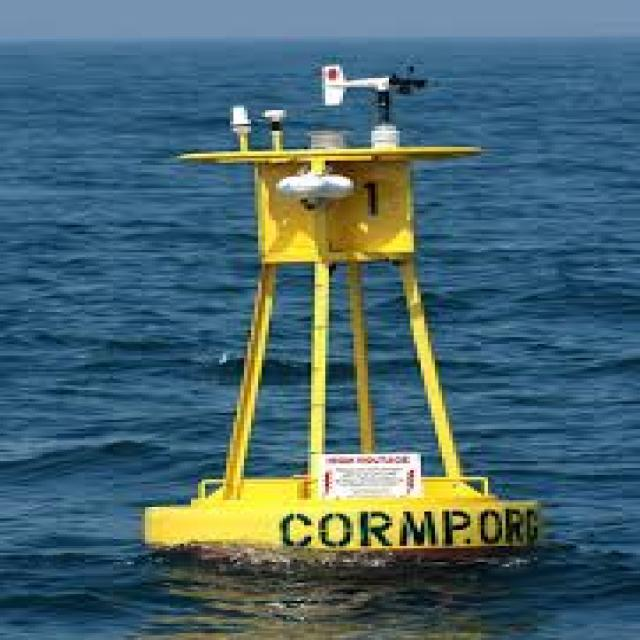2.5 sepcial mark: (145, 44, 554, 560)
